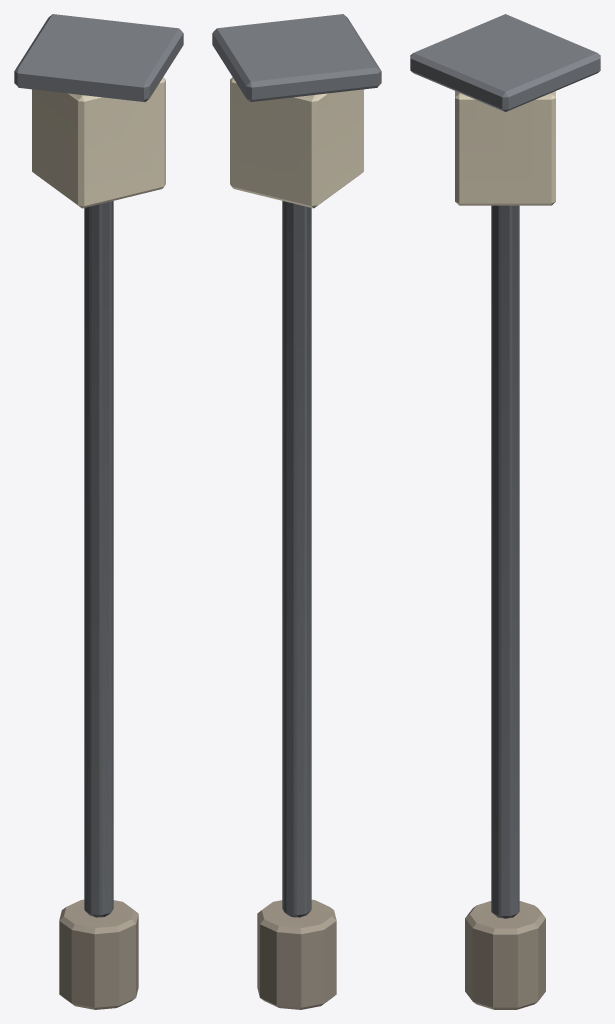
File: lamp_waterfront.glb
3 renders of one model, left to right at view 1: azimuth 30°, elevation 25°; view 2: azimuth 150°, elevation 25°; view 3: azimuth 270°, elevation 25°, orthographic.
Size of the model in its own units: 0.8486 by 4.63 by 0.8486.
